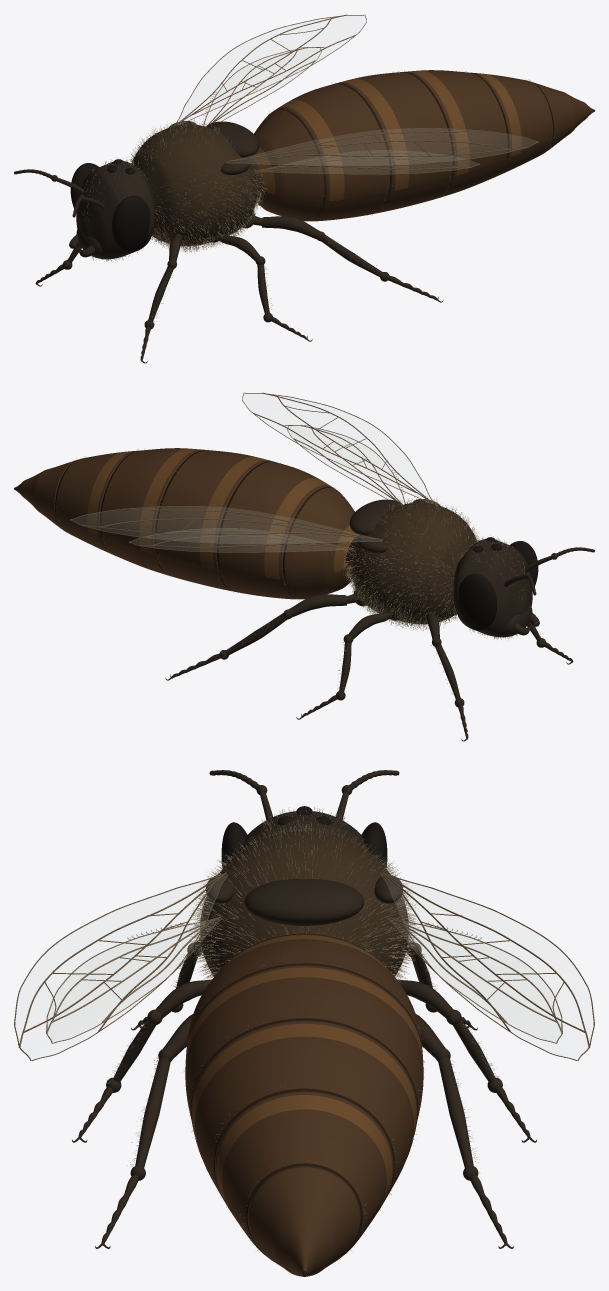
Rendered from bee-fine-cerana-queen.glb.
3 views of the same model, one above another, from view 1: azimuth 30°, elevation 25°; view 2: azimuth 150°, elevation 25°; view 3: azimuth 270°, elevation 25° (orthographic). The views are drawn at different scales.
Parts seen in each view (by area): view 1: Thorax | continuous mesosoma.001, Abdomen | tergite 2.001, Abdomen | tergite 3.001, Forewing_1_membrane.001, Abdomen | tergite 4.001, Forewing_-1_membrane.001, Abdomen | tergite 1.001, Head | sculpted capsule.001, Abdomen | tergite 5.001, Thoracic fine coat.001, Compound_eye_-1.001, Abdomen | tergite 6.001 (+12 smaller); view 2: Thorax | continuous mesosoma.001, Abdomen | tergite 2.001, Abdomen | tergite 3.001, Forewing_-1_membrane.001, Abdomen | tergite 4.001, Forewing_1_membrane.001, Abdomen | tergite 1.001, Head | sculpted capsule.001, Abdomen | tergite 5.001, Thoracic fine coat.001, Compound_eye_1.001, Abdomen | tergite 6.001 (+12 smaller); view 3: Abdomen | tergite 4.001, Forewing_-1_membrane.001, Forewing_1_membrane.001, Abdomen | tergite 5.001, Thorax | continuous mesosoma.001, Abdomen | tergite 3.001, Abdomen | tergite 6.001, Abdomen | tergite 2.001, Thoracic fine coat.001, Scutellum.001, Head | sculpted capsule.001, hind_-1 | tibia.001 (+8 smaller).
Boxes of the visible parts, left/top/right/bottom form: Thorax | continuous mesosoma.001: left=131, top=124, right=262, bottom=246; Abdomen | tergite 2.001: left=275, top=83, right=391, bottom=220; Abdomen | tergite 3.001: left=335, top=72, right=454, bottom=212; Forewing_1_membrane.001: left=179, top=15, right=365, bottom=121; Abdomen | tergite 4.001: left=404, top=70, right=509, bottom=196; Forewing_-1_membrane.001: left=227, top=129, right=536, bottom=164; Abdomen | tergite 1.001: left=250, top=109, right=325, bottom=217; Head | sculpted capsule.001: left=76, top=161, right=155, bottom=259; Abdomen | tergite 5.001: left=472, top=72, right=554, bottom=174; Thoracic fine coat.001: left=127, top=118, right=266, bottom=253; Compound_eye_-1.001: left=112, top=195, right=150, bottom=252; Abdomen | tergite 6.001: left=534, top=82, right=594, bottom=148; Thorax | continuous mesosoma.001: left=346, top=502, right=477, bottom=624; Abdomen | tergite 2.001: left=217, top=461, right=333, bottom=598; Abdomen | tergite 3.001: left=154, top=450, right=273, bottom=590; Forewing_-1_membrane.001: left=243, top=393, right=430, bottom=502; Abdomen | tergite 4.001: left=99, top=448, right=204, bottom=574; Forewing_1_membrane.001: left=72, top=507, right=381, bottom=542; Abdomen | tergite 1.001: left=283, top=487, right=358, bottom=595; Head | sculpted capsule.001: left=453, top=539, right=532, bottom=637; Abdomen | tergite 5.001: left=54, top=450, right=136, bottom=552; Thoracic fine coat.001: left=342, top=497, right=478, bottom=631; Compound_eye_1.001: left=458, top=573, right=496, bottom=630; Abdomen | tergite 6.001: left=14, top=460, right=74, bottom=526; Abdomen | tergite 4.001: left=191, top=1020, right=417, bottom=1191; Forewing_-1_membrane.001: left=16, top=874, right=226, bottom=1059; Forewing_1_membrane.001: left=382, top=874, right=592, bottom=1059; Abdomen | tergite 5.001: left=214, top=1091, right=394, bottom=1249; Thorax | continuous mesosoma.001: left=200, top=831, right=408, bottom=976; Abdomen | tergite 3.001: left=185, top=964, right=423, bottom=1125; Abdomen | tergite 6.001: left=247, top=1166, right=361, bottom=1276; Abdomen | tergite 2.001: left=186, top=934, right=422, bottom=1050; Thoracic fine coat.001: left=188, top=822, right=420, bottom=983; Scutellum.001: left=244, top=878, right=364, bottom=925; Head | sculpted capsule.001: left=239, top=811, right=369, bottom=852; hind_-1 | tibia.001: left=135, top=1057, right=170, bottom=1167.
Size of the model in its own units: 0.0156 by 0.00473 by 0.00902.
